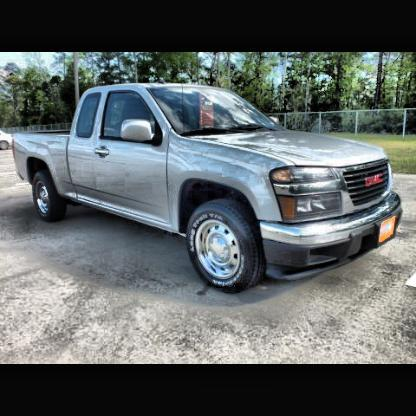GMC Canyon Extended Cab 2012: (13, 75, 405, 298)
